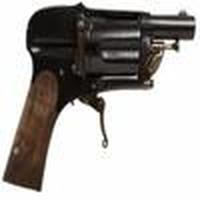gun: (3, 9, 198, 191)
